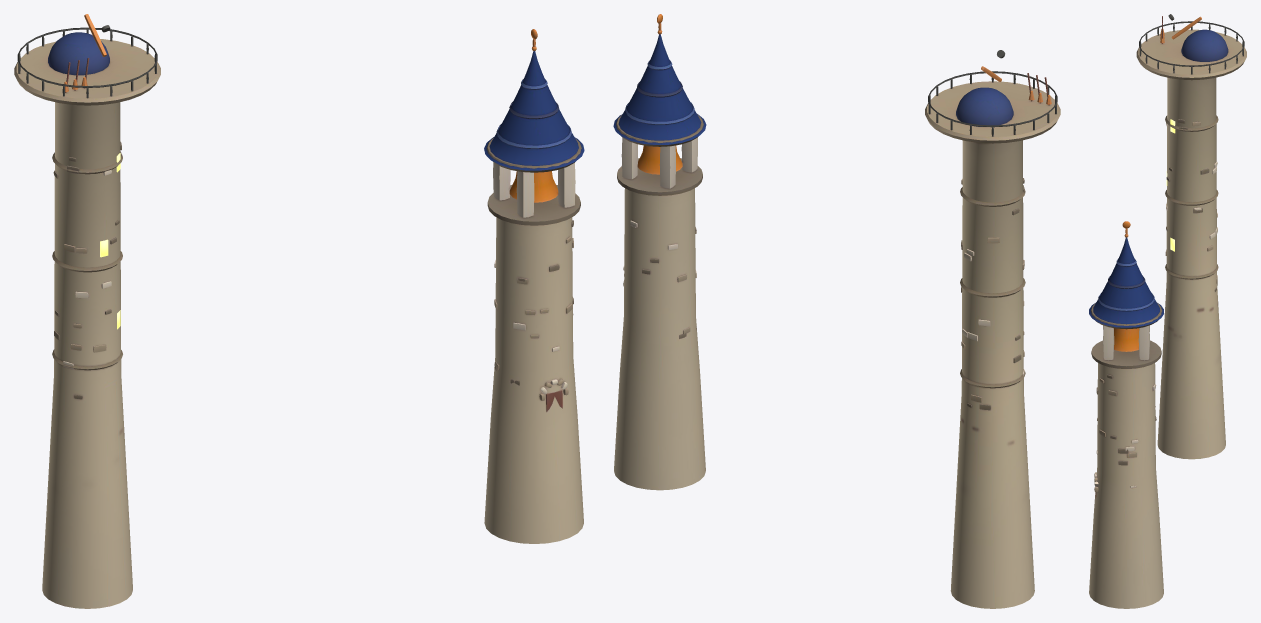
The model's file is castle_towers.glb.
3 renders of one model, left to right at view 1: azimuth 30°, elevation 25°; view 2: azimuth 150°, elevation 25°; view 3: azimuth 270°, elevation 25°, orthographic. The views are drawn at different scales.
Parts seen in each view (by area): view 1: main; view 2: main; view 3: main.
Part boxes in pixels (x1,y1,x2,y2): main: (14,14,584,608); main: (613,14,1060,608); main: (1089,14,1246,608).
Size of the model in its own units: 54.45 by 58.46 by 19.37.
2 materials, 1 textured.
